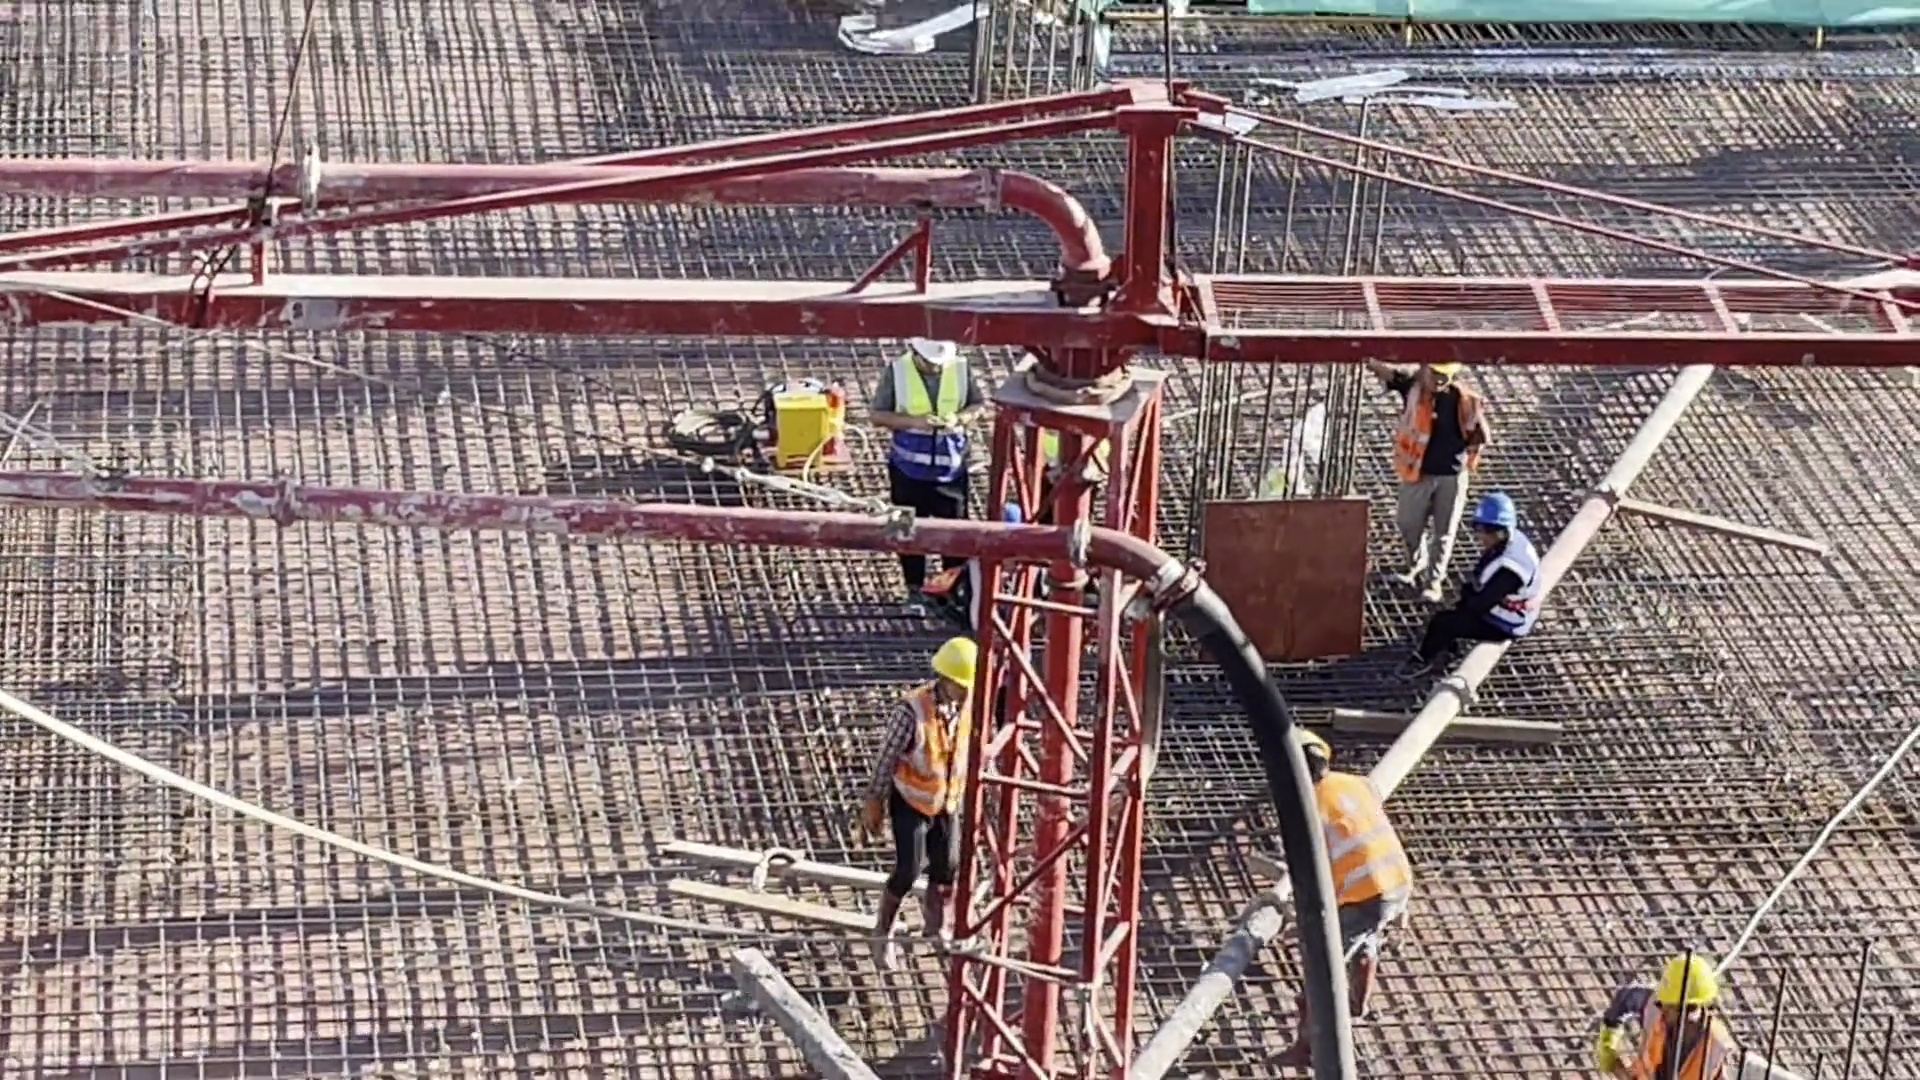helmet: (1653, 957, 1720, 1004), (1276, 717, 1341, 759), (933, 643, 981, 692), (1477, 481, 1515, 529), (908, 332, 957, 369), (1419, 360, 1460, 389)
person: (1282, 715, 1425, 1032), (868, 636, 991, 946), (1369, 357, 1477, 604), (875, 339, 978, 558), (1434, 480, 1547, 653), (1599, 953, 1741, 1080)
vest: (1309, 783, 1395, 916), (900, 708, 972, 832), (899, 376, 965, 485), (1628, 1023, 1724, 1080), (1392, 399, 1453, 485), (1477, 552, 1537, 636)
